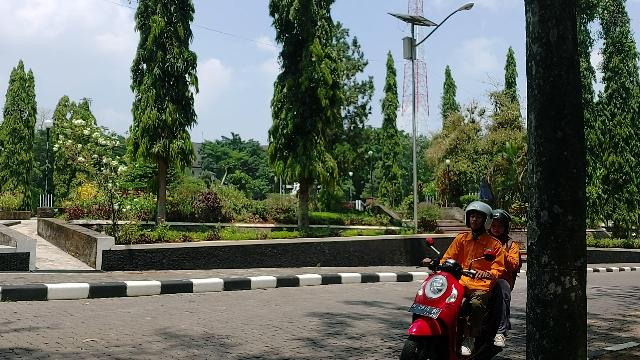helm: (465, 201, 495, 233), (491, 210, 513, 239)
motor: (400, 237, 514, 360)
